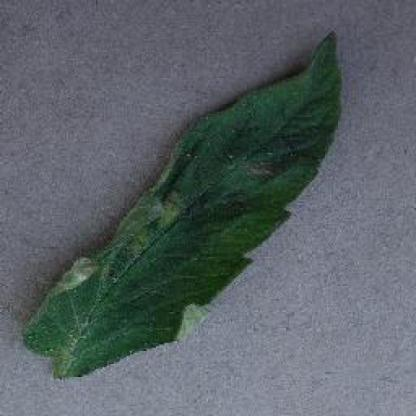Tomato_Leaf_Mold: (25, 26, 341, 373)
